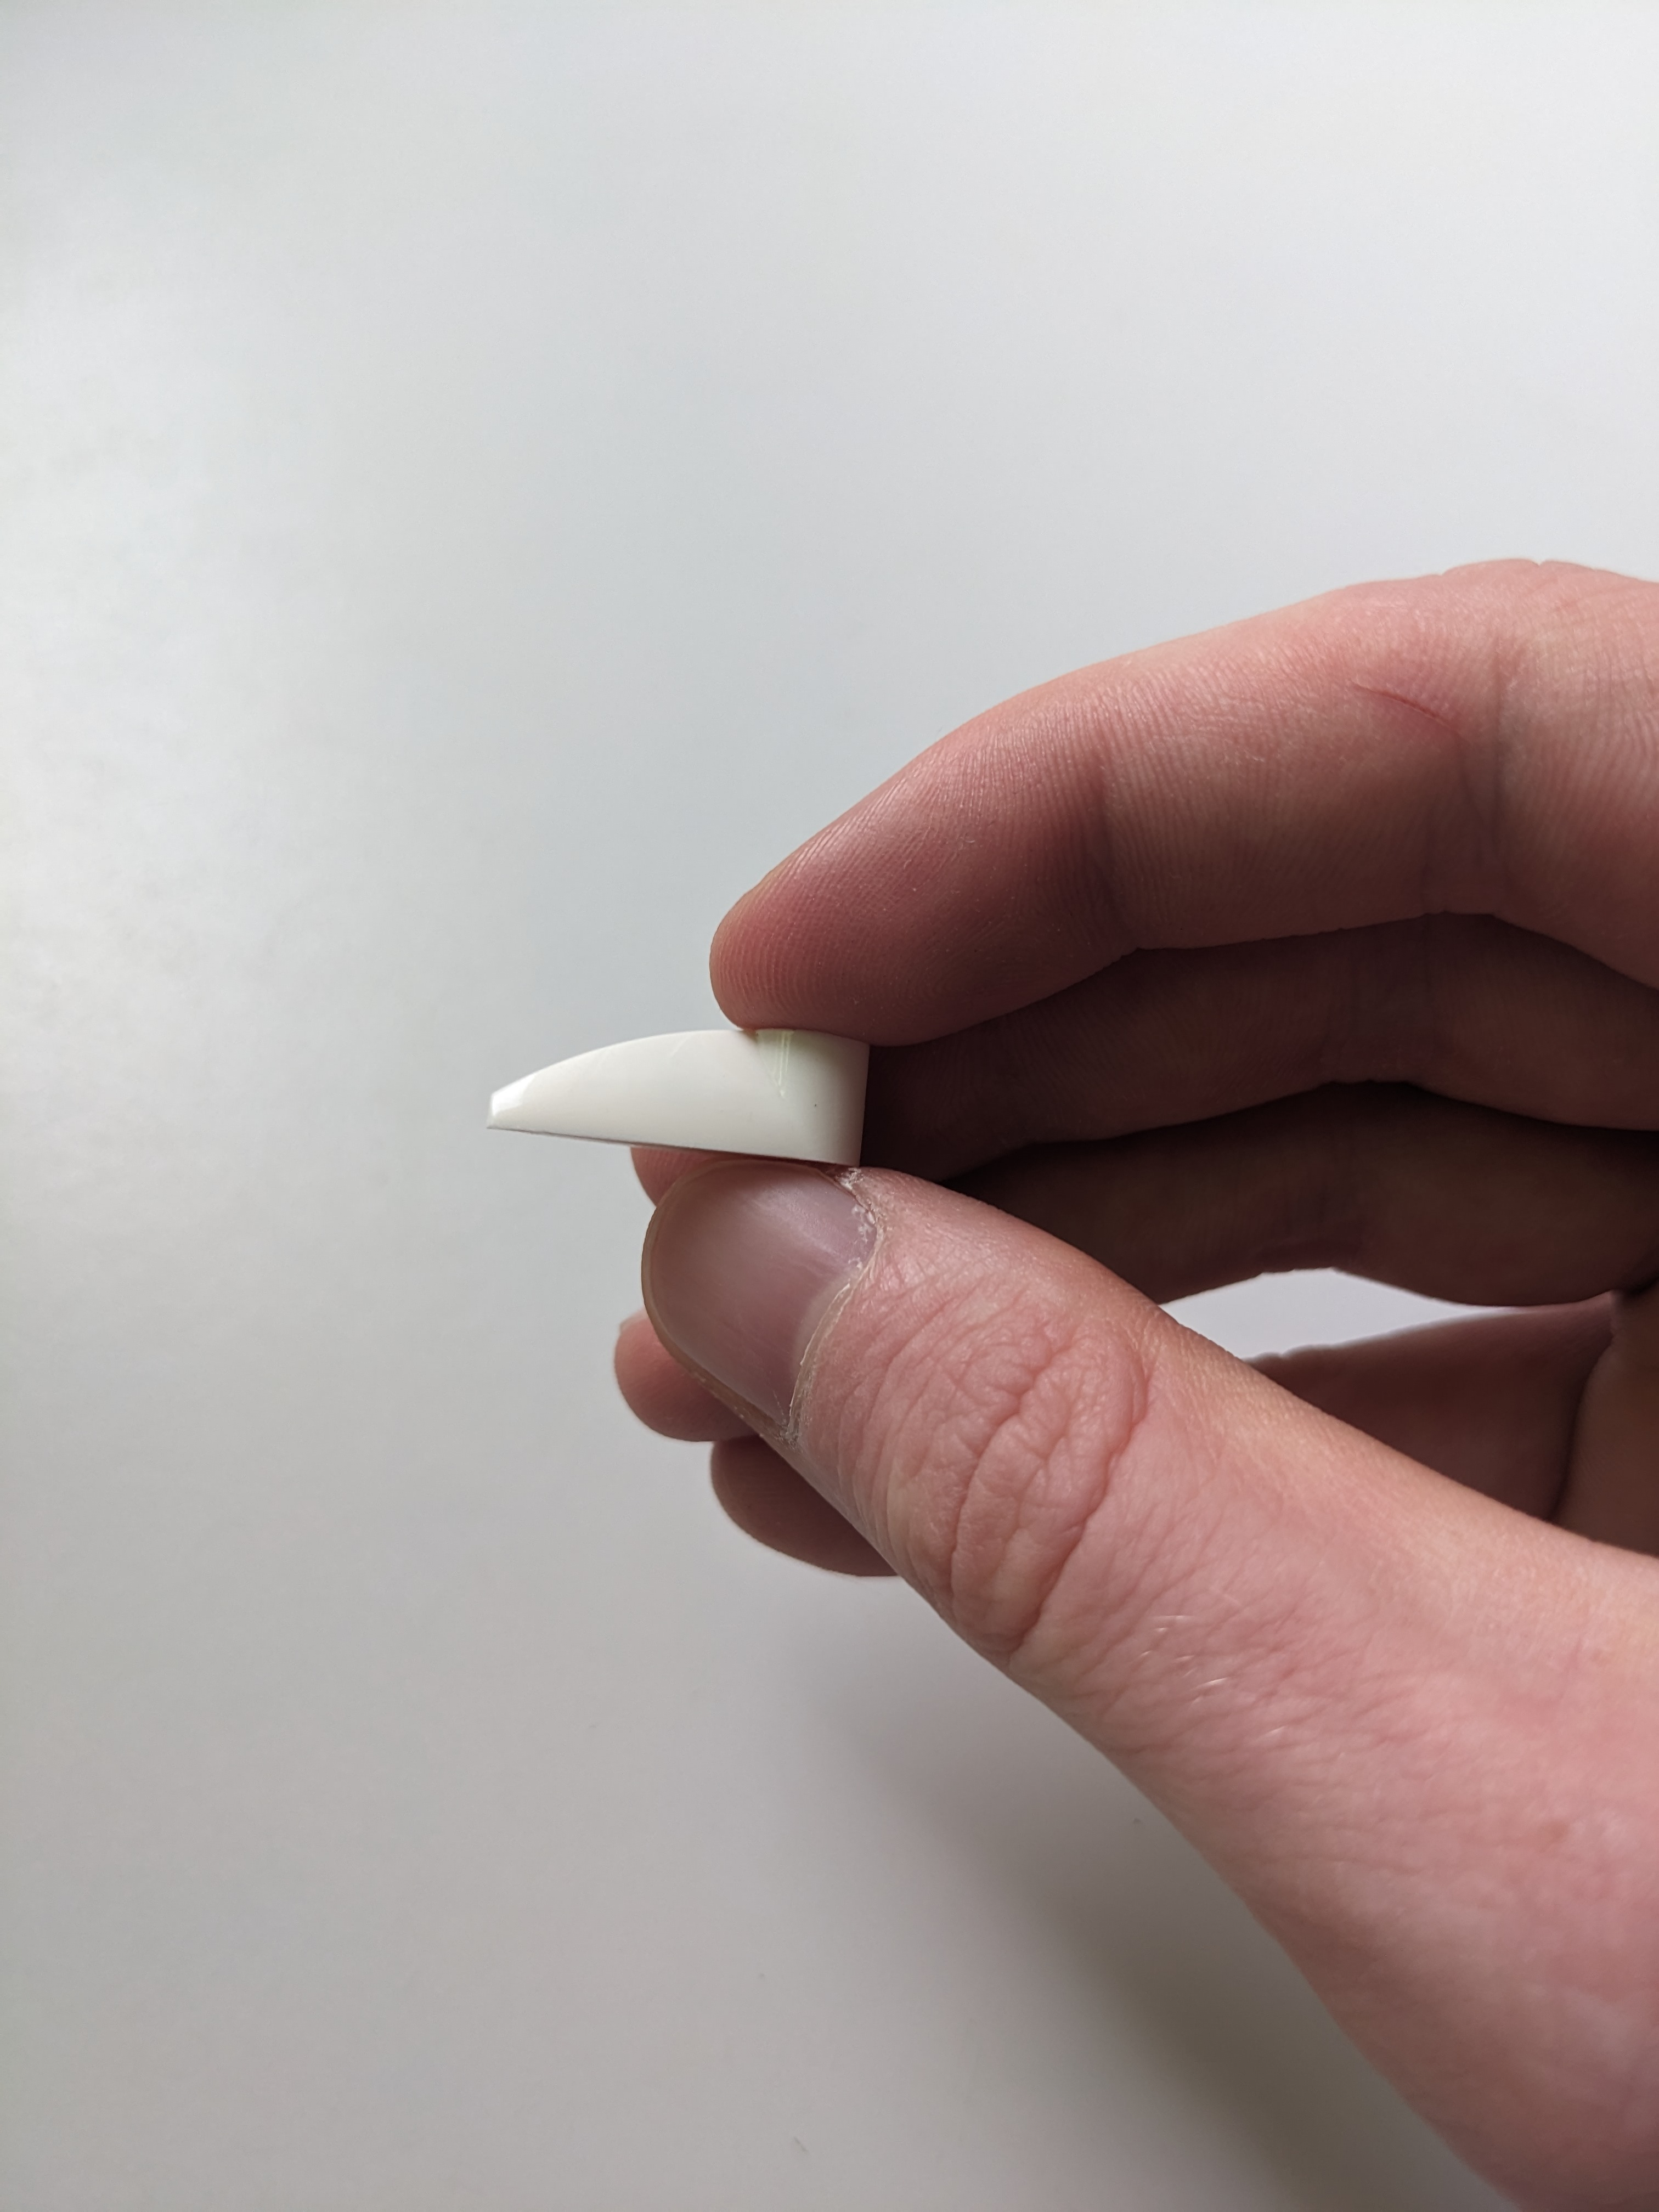Kappe: (474, 986, 887, 1181)
